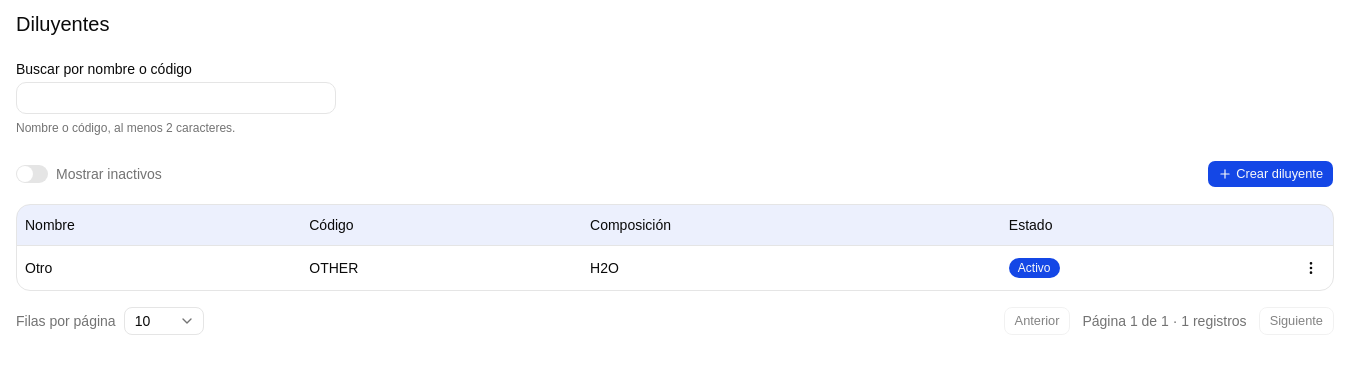
Test: DiluentListPage — acciones por rol › la fila OTHER activa ofrece «Editar» pero no «Dar de baja», ni siquiera a SUPERADMIN
Click the button named "Acciones del diluyente": (1311, 268) [1297,254,1325,282]
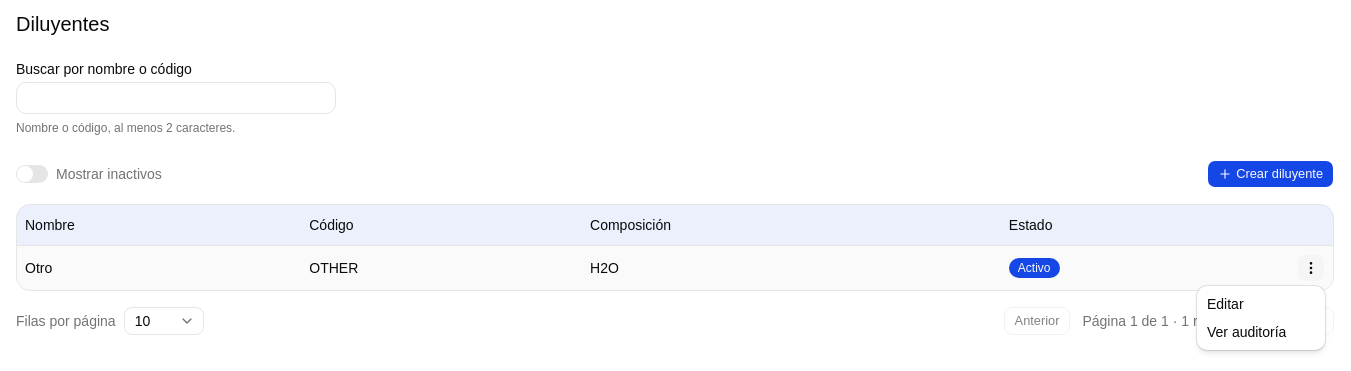
Expected: the menu item "Editar" is shown, [1207,296,1244,312]
